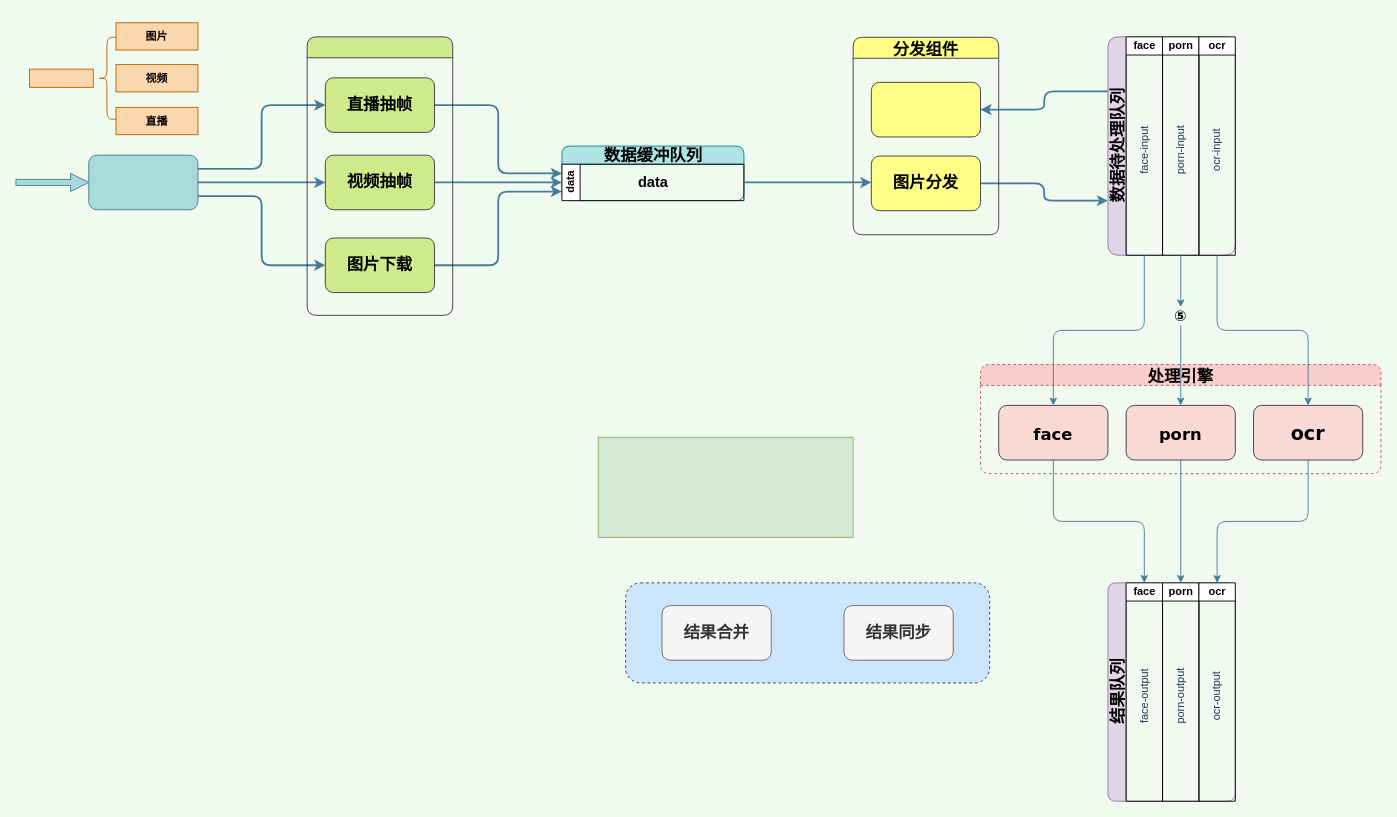
The diagram is 1397 pixels wide and 817 high, and some of its shapes have lost their labels. Each missing label, with the centre of its shape:
数据接入: (x=143, y=182)
数据类型: (x=61, y=77)
结果一致性存储中心 (Redis): (x=725, y=486)
队列探测: (x=925, y=109)
预处理组件: (x=379, y=175)
